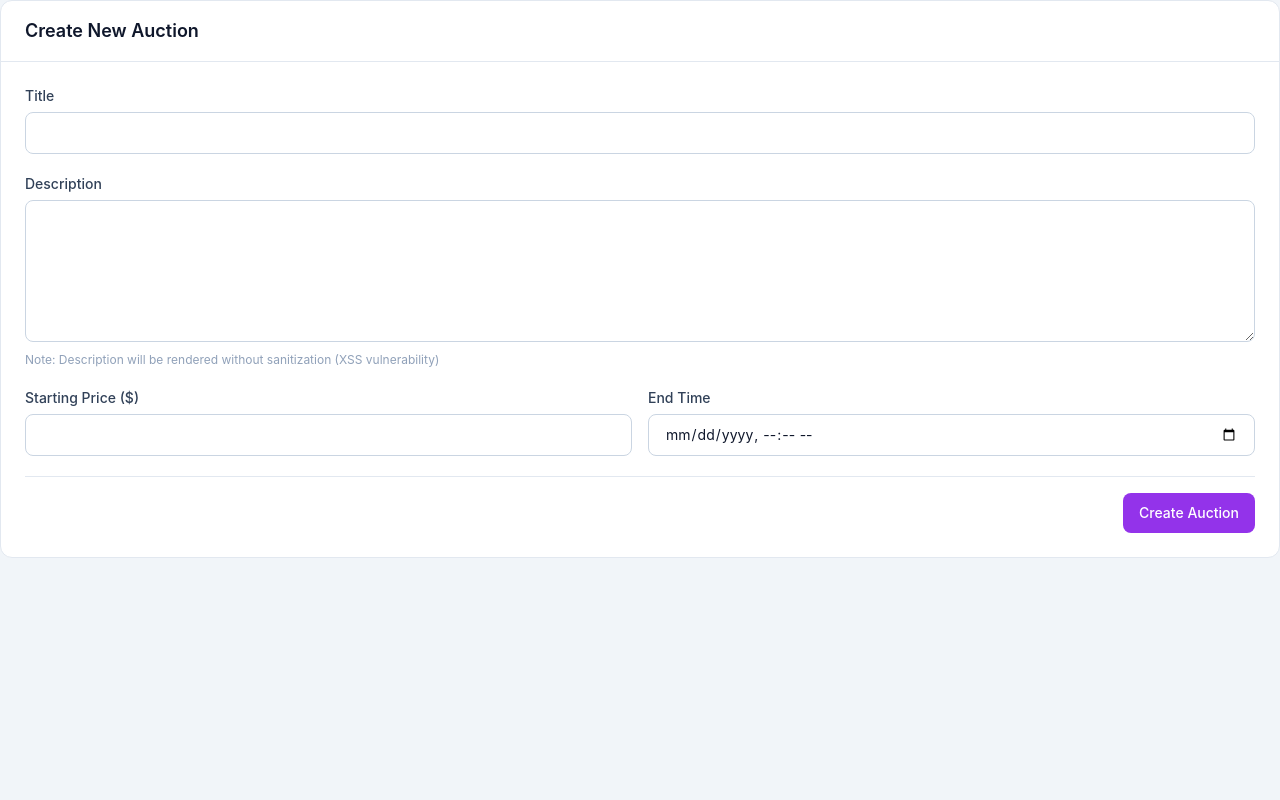
AuctionForm › displays error message on submit failure
The width and height of the screenshot is (1280, 800).
Type "New Auction" into the field labelled "Title" at x=640, y=133, box [25,112,1255,154]
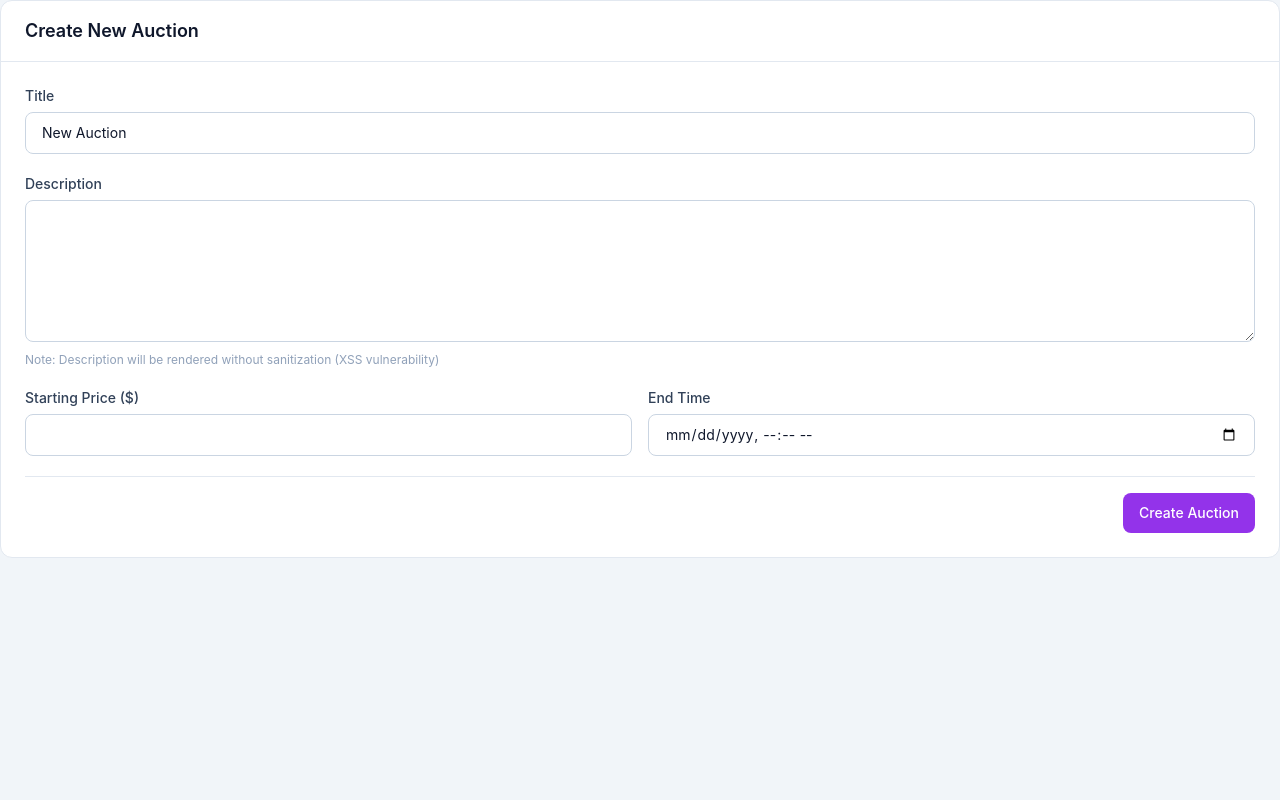
Type "New Description" into the text box labelled "Description" at x=640, y=271, box [25,200,1255,342]
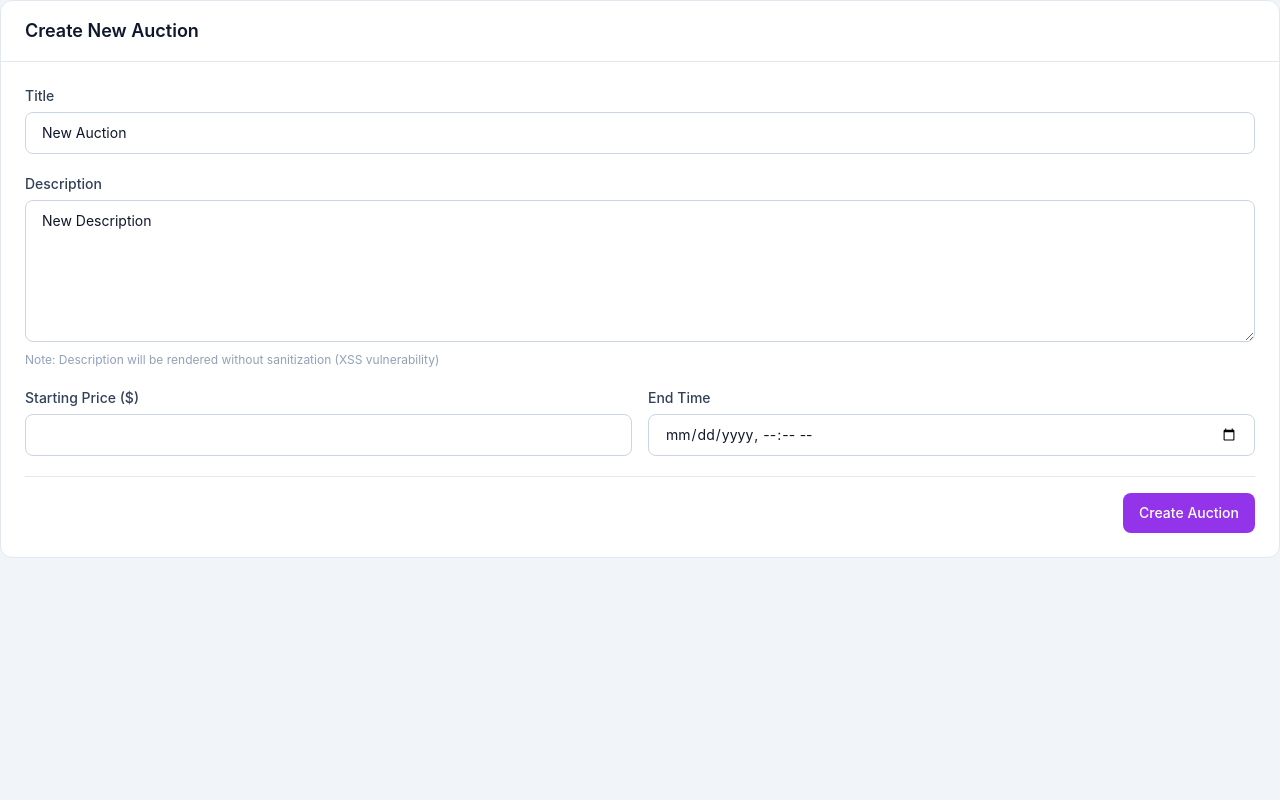
Type "200" into the number field labelled "Starting Price ($)" at x=328, y=435, box [25,414,632,456]
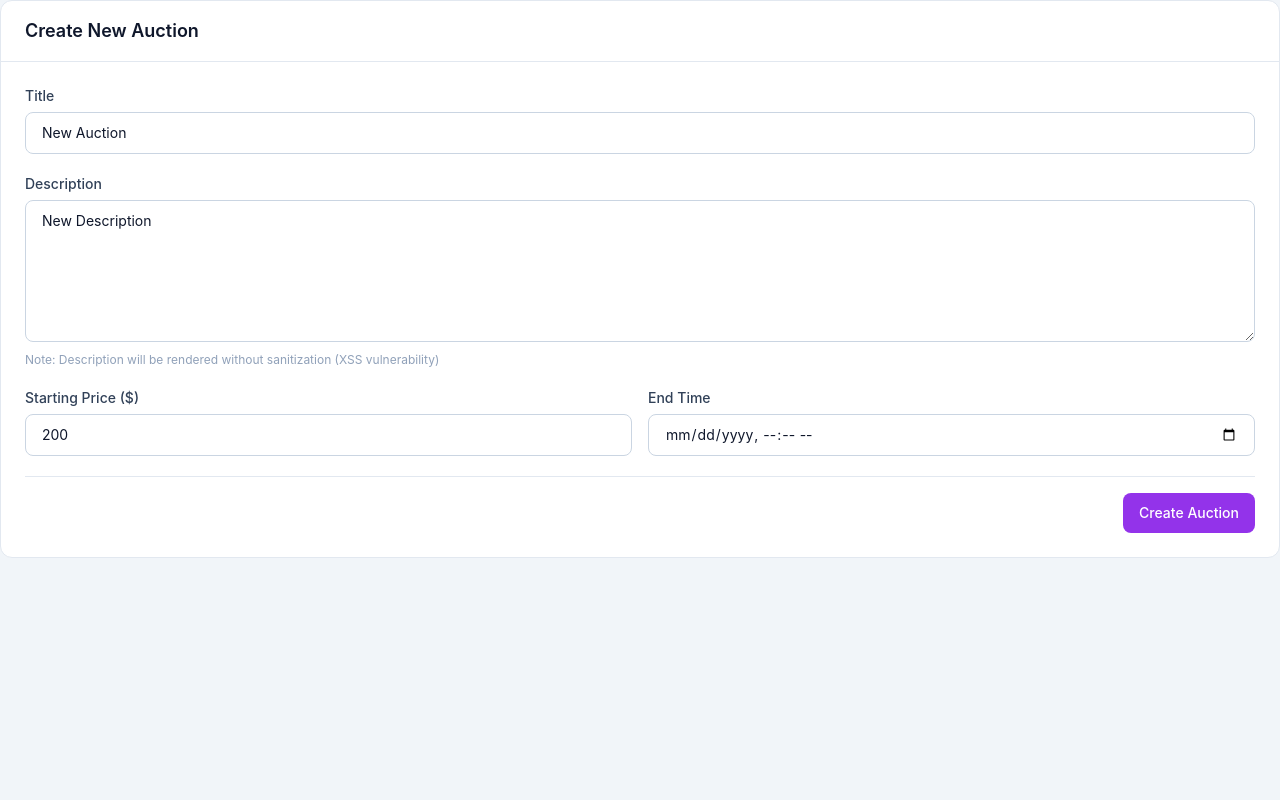
Type "2024-12-31T23:59" into the field labelled "End Time" at x=952, y=435, box [648,414,1255,456]
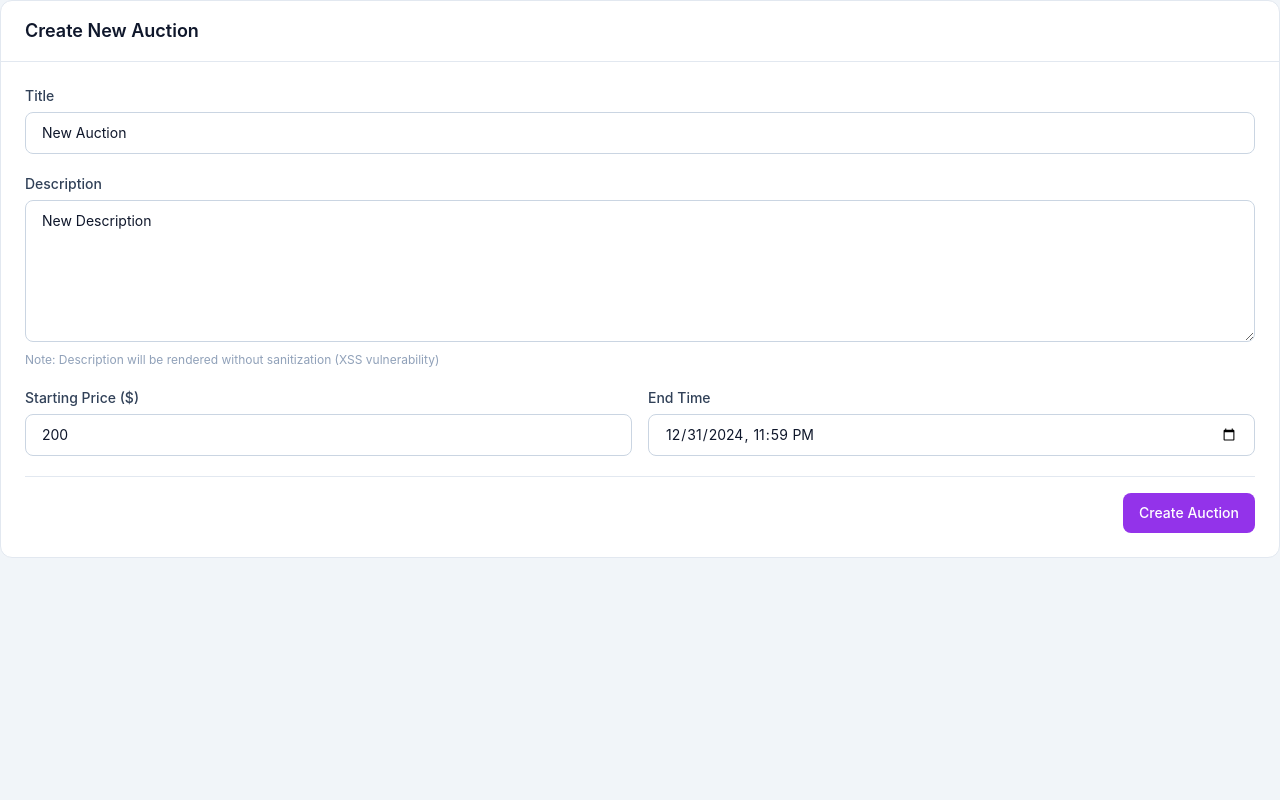
Click the button "Create Auction" at x=1189, y=513, box [1123,493,1255,533]
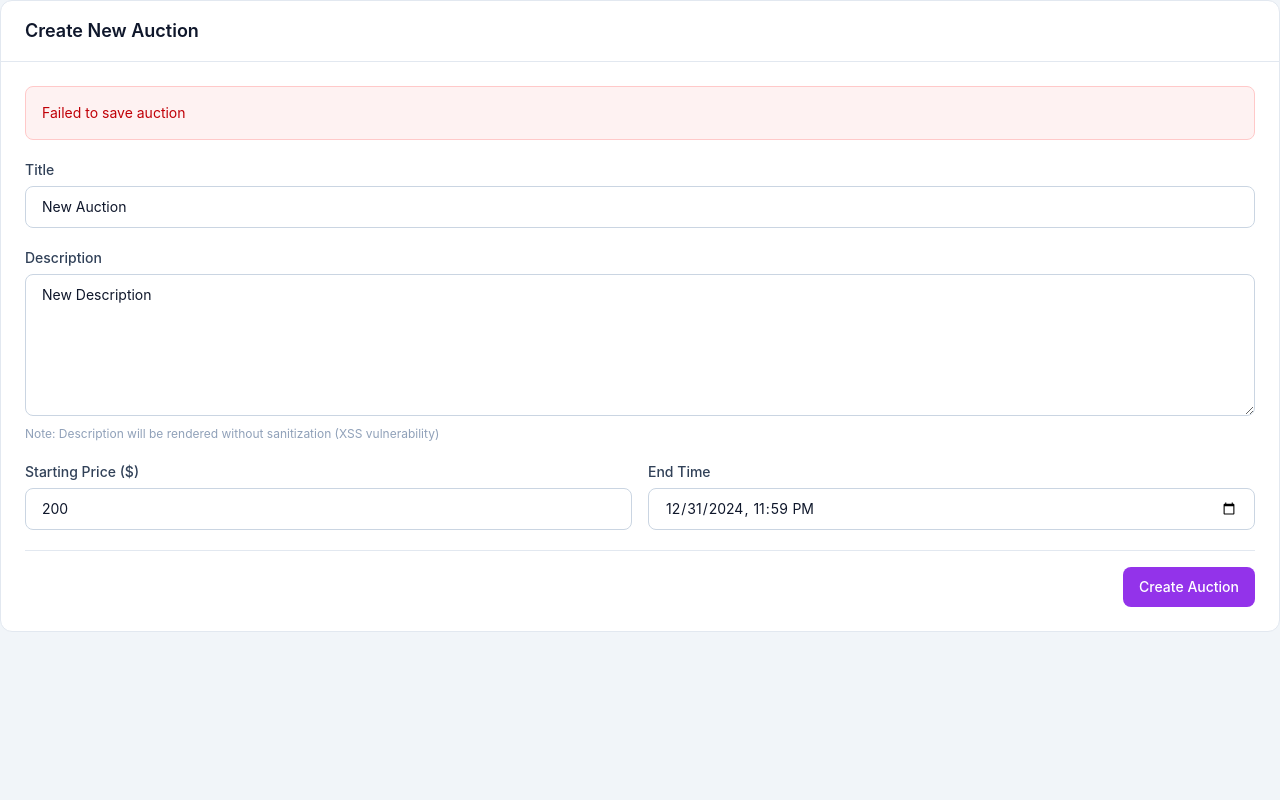
Now the text "Failed to save auction" is shown, box [25,86,1255,140]
